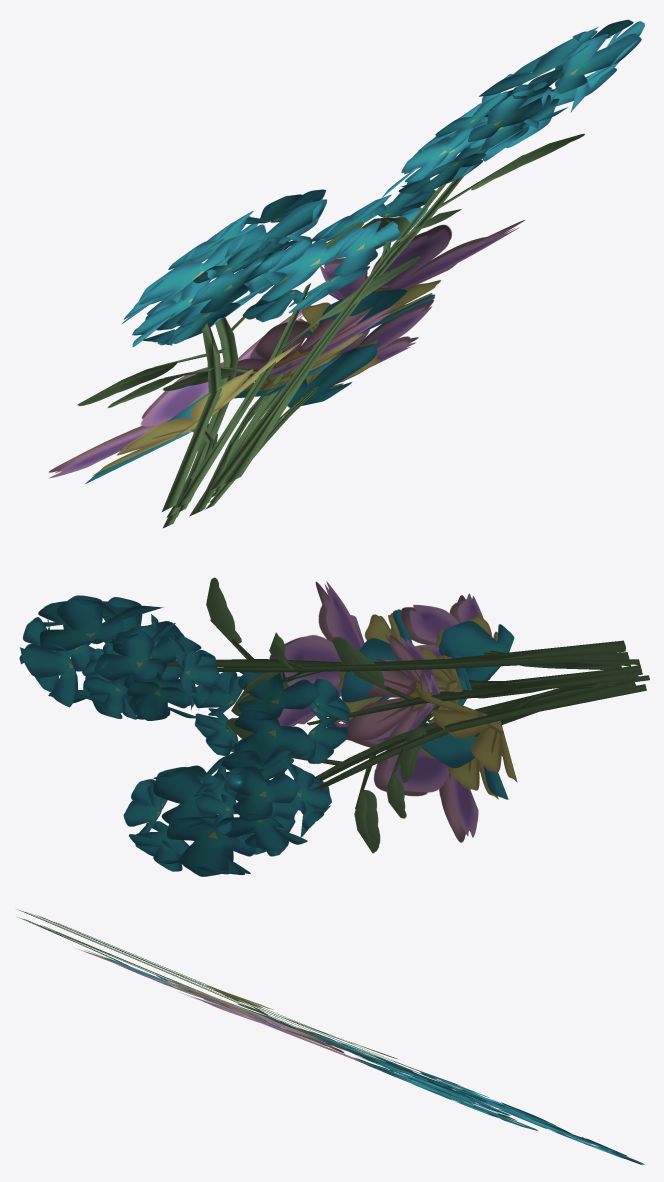
Rendered from flowers.glb.
The picture shows the model from 3 angles, top to bottom: view 1: azimuth 30°, elevation 25°; view 2: azimuth 150°, elevation 25°; view 3: azimuth 270°, elevation 25°; orthographic projection. The views are drawn at different scales.
Parts seen in each view (by area): view 1: flowers.source; view 2: flowers.source; view 3: flowers.source.
Part boxes in pixels (x1=…): flowers.source: x1=48, y1=19, x2=644, y2=528; flowers.source: x1=19, y1=577, x2=649, y2=876; flowers.source: x1=16, y1=909, x2=644, y2=1164.
Bounding box in the file's own units: 2.6 × 1 × 2.46.
Materials: 1 (1 with a texture image).
